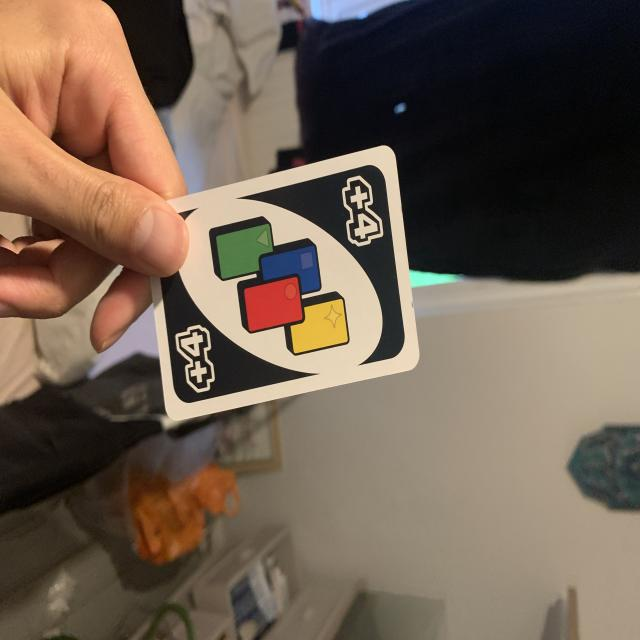lcolor-400: (331, 170, 391, 261)
